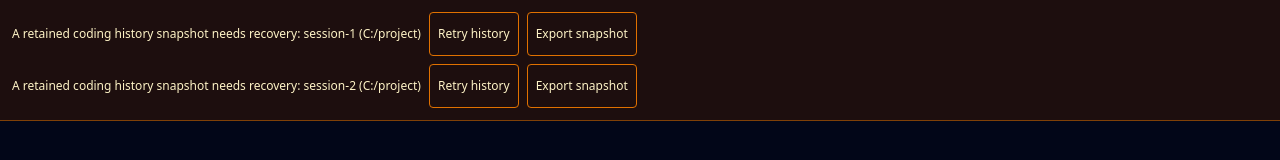
Test: blocks every retained record while a recovery action is pending
Click the button "Retry history" in the row of "session-1" at (474, 34), box [429,12,519,56]
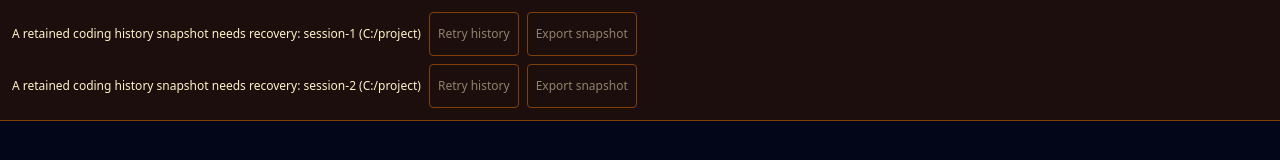
Click the button "Export snapshot" in the row of "session-1" at (582, 34), box [527,12,637,56]
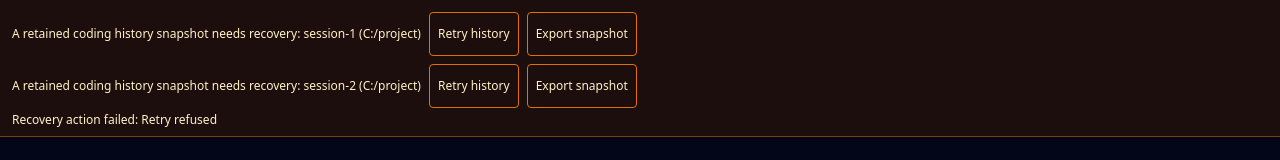
Now the text "Retry refused" is shown, box [12,111,217,128]
